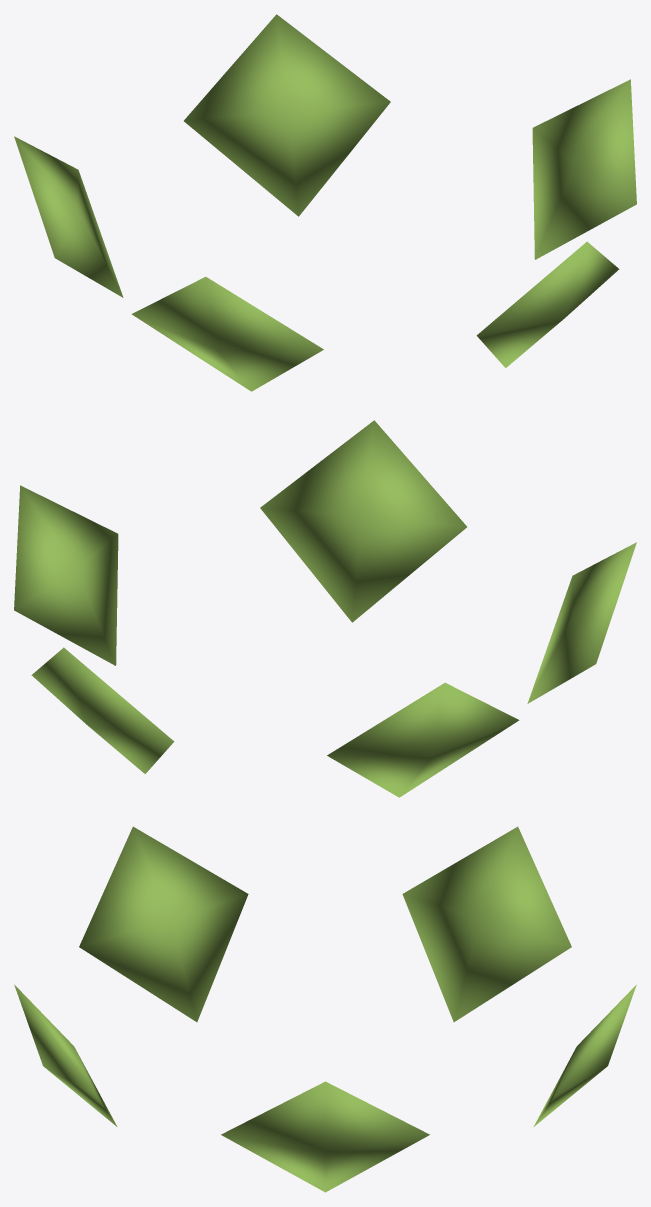
The model's file is flower_cooldown.fbx.
3 views of the same model, one above another, from view 1: azimuth 30°, elevation 25°; view 2: azimuth 150°, elevation 25°; view 3: azimuth 270°, elevation 25° (orthographic).
Visible parts, largest first — view 1: flower_cooldown; view 2: flower_cooldown; view 3: flower_cooldown.
Part boxes in pixels (x1,y1,x2,y2): flower_cooldown: [14, 14, 636, 391]; flower_cooldown: [14, 420, 636, 797]; flower_cooldown: [14, 826, 636, 1192].
Size of the model in its own units: 1 by 0.28 by 1.
1 material, 1 textured.
